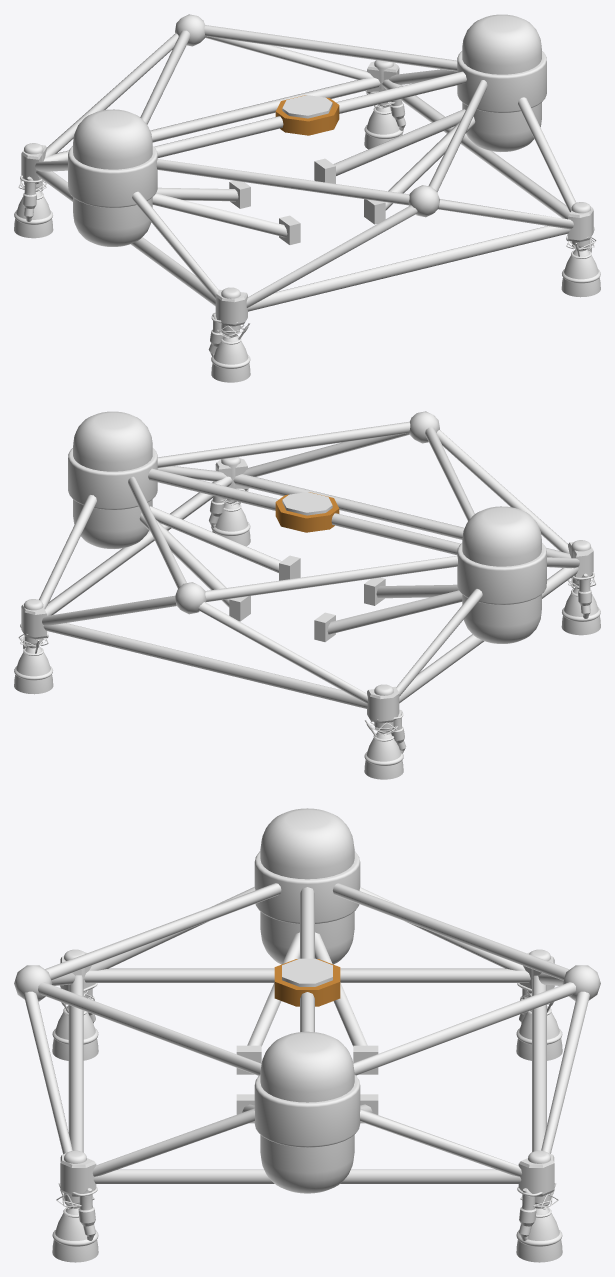
File: DropShip.fbx
3 views of the same model, one above another, from view 1: azimuth 30°, elevation 25°; view 2: azimuth 150°, elevation 25°; view 3: azimuth 270°, elevation 25° (orthographic). The views are drawn at different scales.
Visible parts, largest first — view 1: DropShip; view 2: DropShip; view 3: DropShip.
Part boxes in pixels (x1,y1,x2,y2): DropShip: [14, 14, 600, 382]; DropShip: [14, 411, 600, 779]; DropShip: [14, 808, 600, 1262].
Size of the model in its own units: 76.22 by 29.31 by 70.58.
